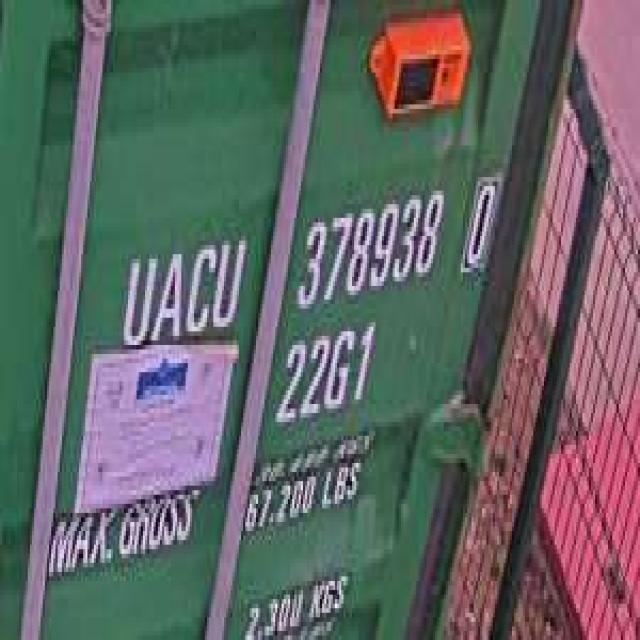dv: (461, 159, 499, 281)
owner: (120, 228, 250, 354)
serial: (290, 177, 444, 313)
size: (275, 318, 378, 431)
